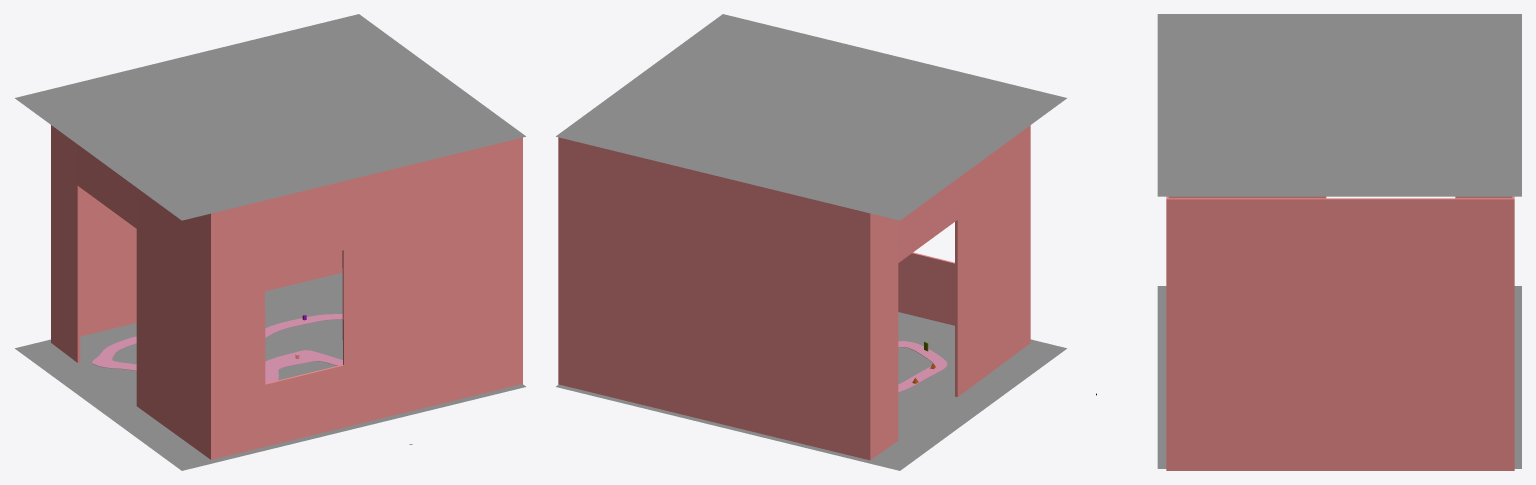
File: BasicoBueno.DAE
3 views of the same model, side by side, from view 1: azimuth 30°, elevation 25°; view 2: azimuth 150°, elevation 25°; view 3: azimuth 270°, elevation 25° (orthographic). The views are drawn at different scales.
Visible parts, largest first — view 1: Line002, Plane003, Plane001, Line001; view 2: Line002, Plane003, Plane001, Line001; view 3: Line002, Plane003, Plane001.
Part boxes in pixels (left/top/right/bottom): Line002: left=51, top=125, right=522, bottom=459; Plane003: left=15, top=14, right=525, bottom=220; Plane001: left=15, top=272, right=525, bottom=470; Line001: left=92, top=314, right=342, bottom=383; Line002: left=558, top=125, right=1030, bottom=460; Plane003: left=556, top=14, right=1066, bottom=220; Plane001: left=556, top=312, right=1066, bottom=470; Line001: left=898, top=341, right=947, bottom=392; Line002: left=1166, top=196, right=1514, bottom=470; Plane003: left=1157, top=14, right=1521, bottom=196; Plane001: left=1157, top=286, right=1521, bottom=468.
Size of the model in its own units: 3022 by 2973 by 2116.
